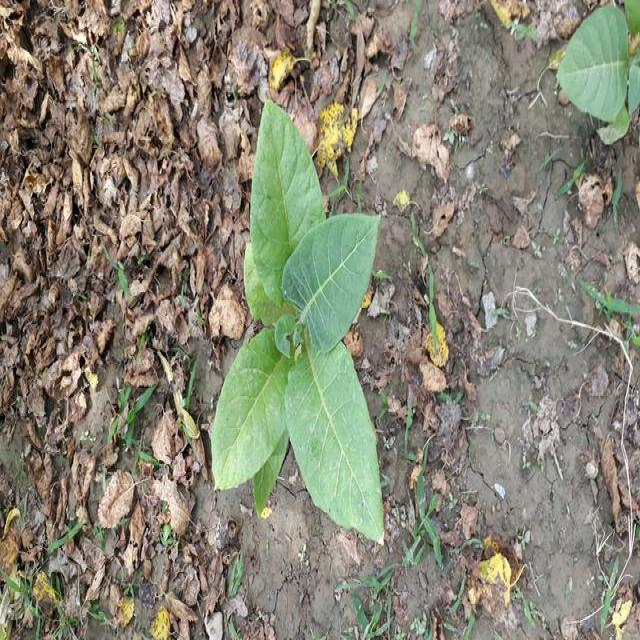crop: (212, 111, 386, 553), (546, 0, 640, 145)
